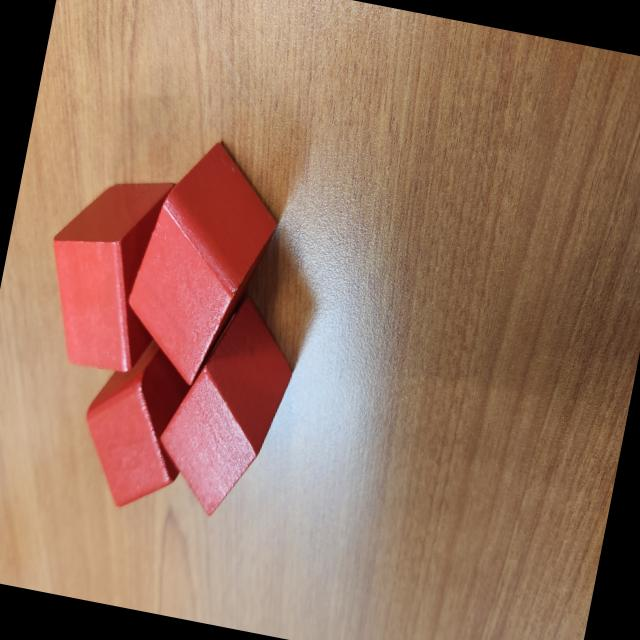red: (112, 130, 292, 398), (144, 284, 306, 527), (30, 163, 184, 379), (70, 326, 208, 519)
